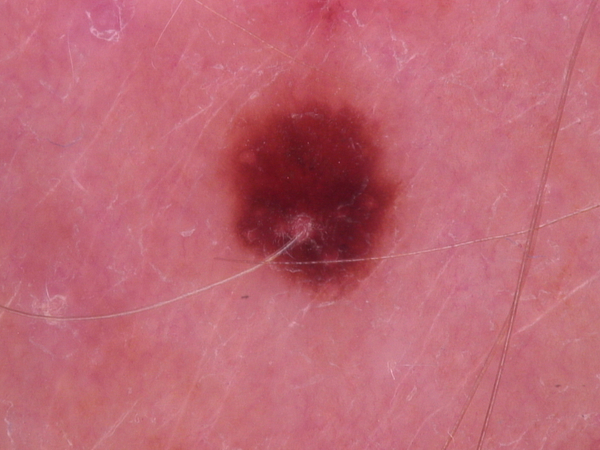Detected Lesion: (226, 89, 406, 309)
